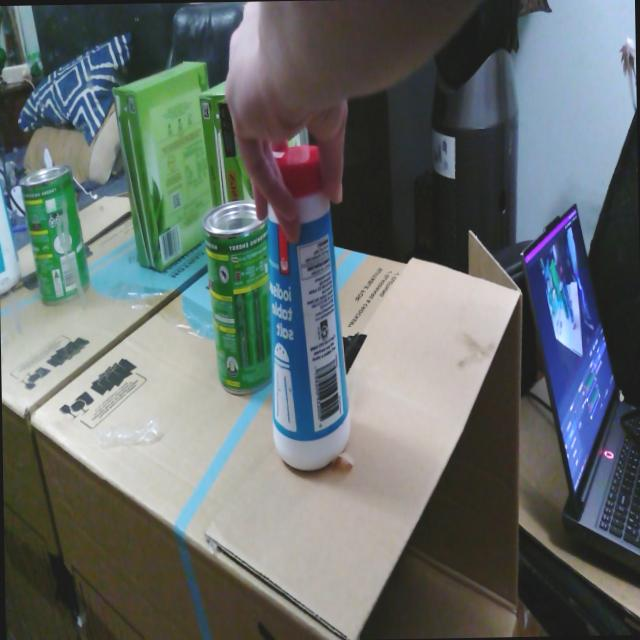nestle_milo_tin: (203, 200, 271, 394)
twinings_greentea_box: (198, 81, 253, 208)
woolworths_salt_bottle: (268, 145, 350, 470)
